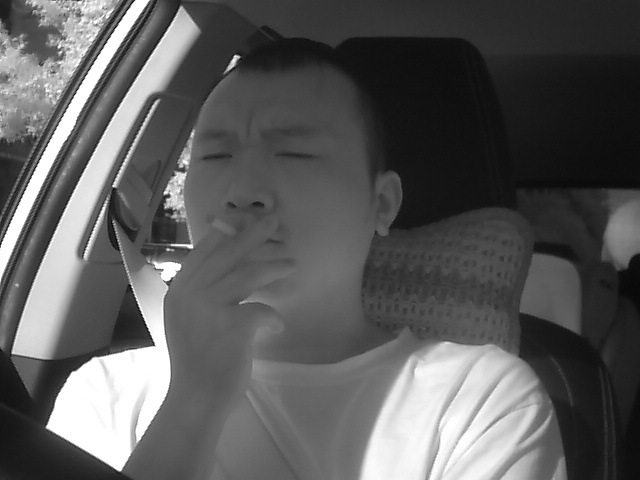hand: (163, 214, 296, 392)
